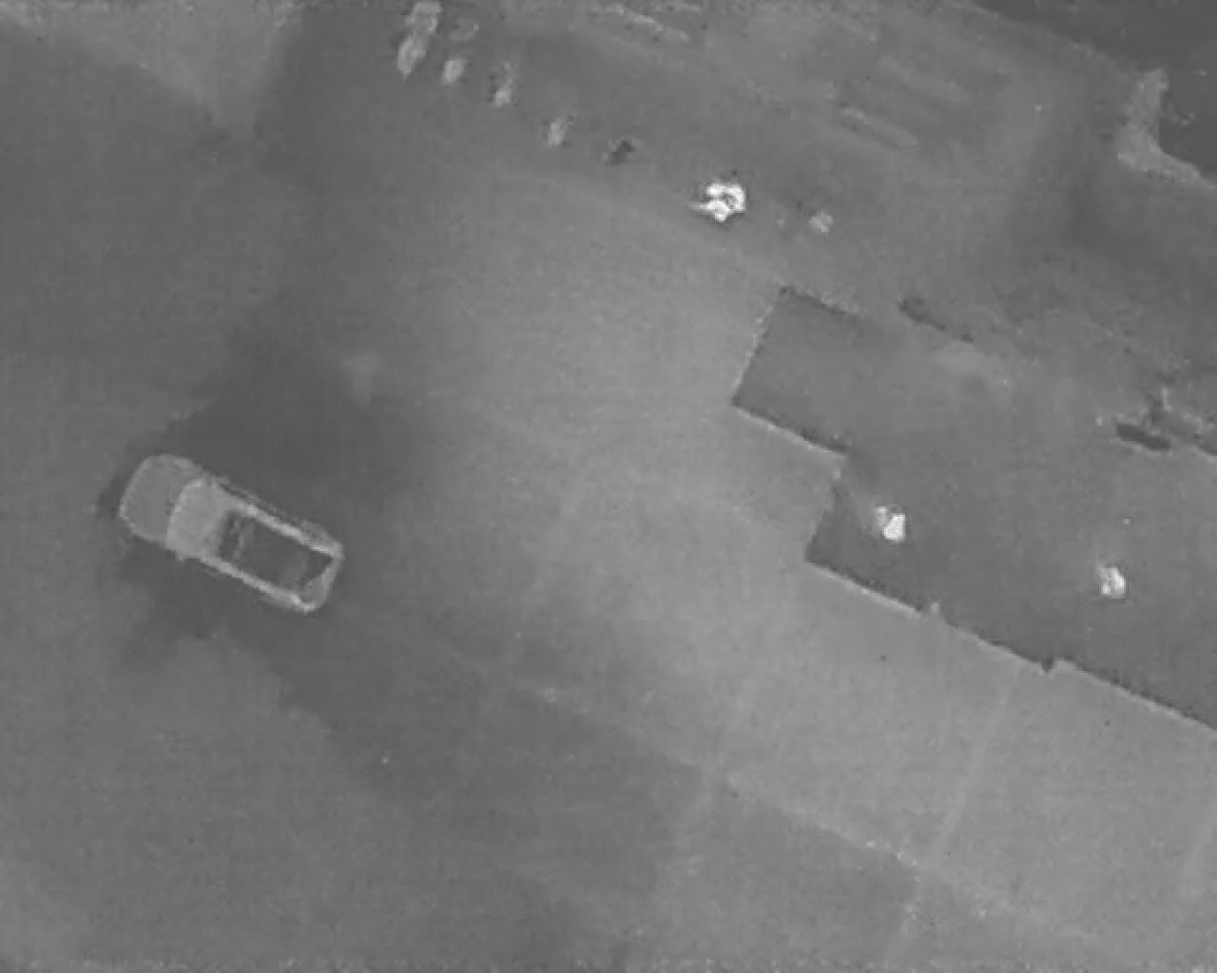person: (693, 174, 752, 227), (1089, 563, 1132, 601), (876, 506, 908, 544)
